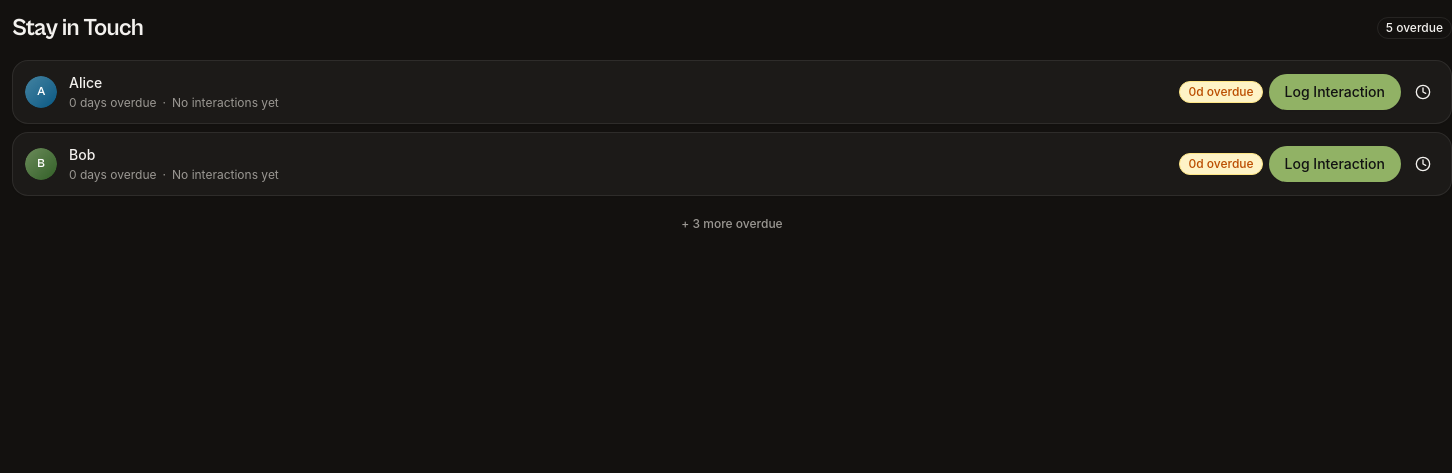
StayInTouchWidget › limits displayed contacts to 2 and shows +X more overdue button when count > 2
Check: the text "Alice" is shown, box [69, 74, 102, 91]
Check: the text "Bob" is shown, box [69, 146, 95, 163]
# Click to expand
Click the button "+ 3 more overdue".
click(732, 224)  # box [669, 208, 795, 240]
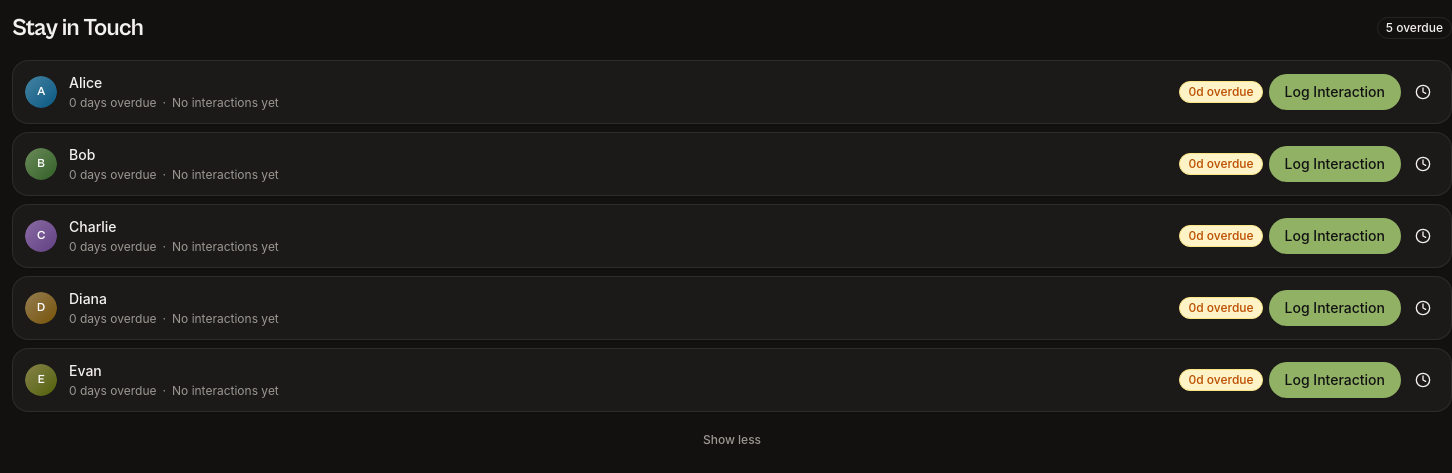
Check: the text "Charlie" is shown, box [69, 218, 117, 235]
Check: the text "Diana" is shown, box [69, 290, 107, 307]
Check: the text "Evan" is shown, box [69, 362, 102, 379]
# Click to collapse
Click the button "Show less".
click(732, 440)  # box [691, 424, 773, 456]
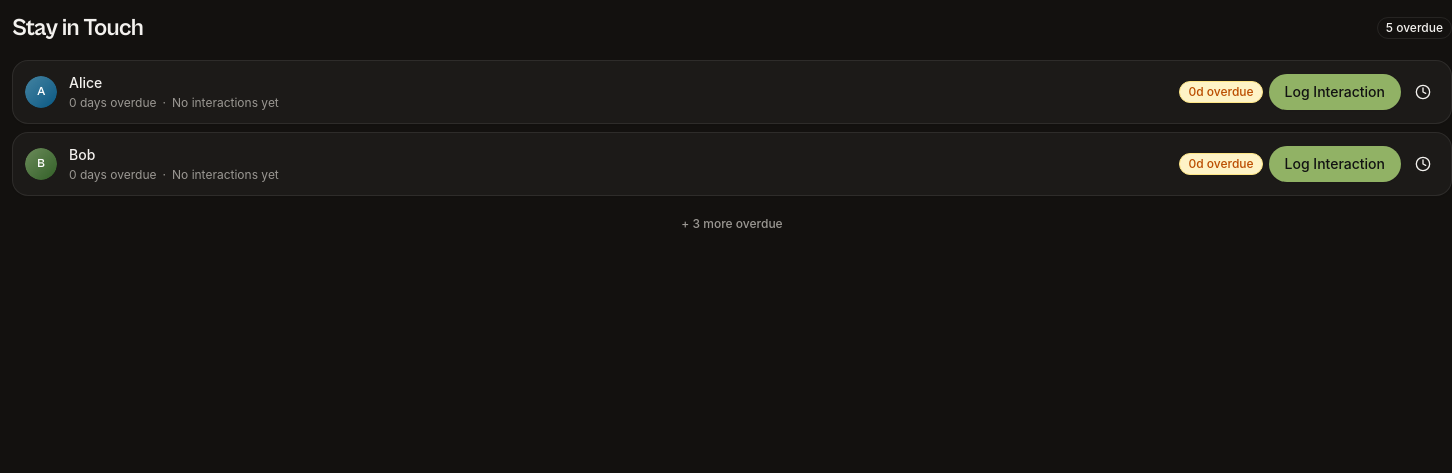
Check: the link "Charlie" is gone
Check: the button "+ 3 more overdue" is shown, box [669, 208, 795, 240]
